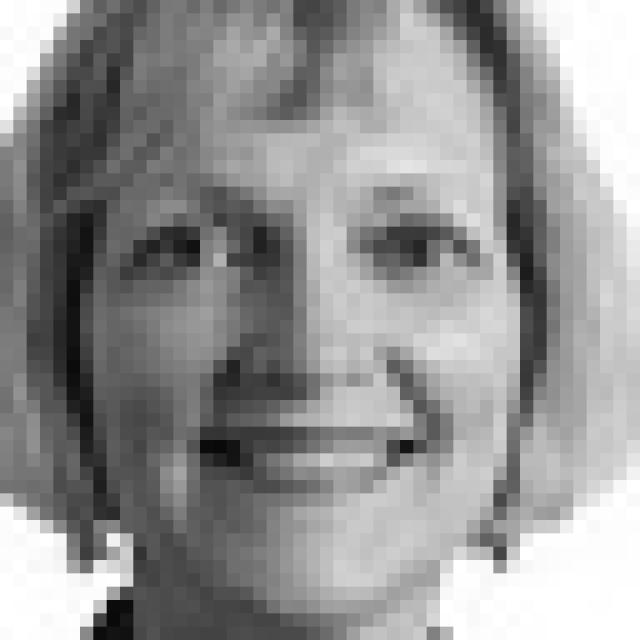happy: (118, 168, 499, 511)
